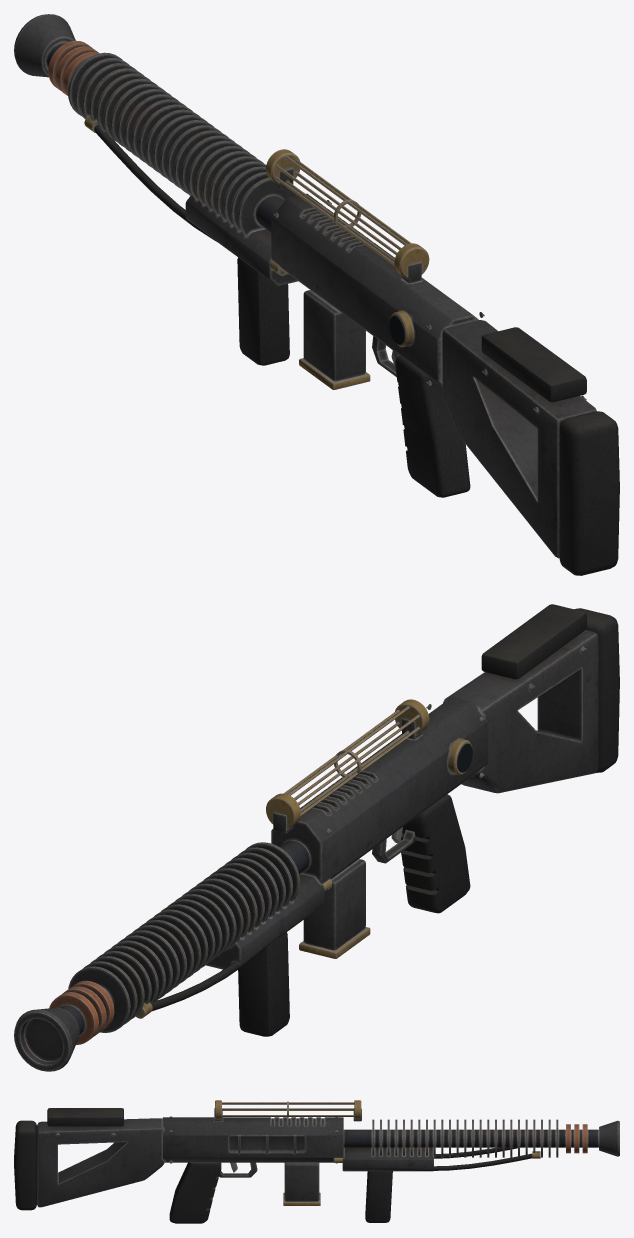
The model's file is candidate_impulse_rifle.glb.
3 renders of one model, top to bottom at view 1: azimuth 30°, elevation 25°; view 2: azimuth 150°, elevation 25°; view 3: azimuth 270°, elevation 25°, orthographic. The views are drawn at different scales.
Parts seen in each view (by area): view 1: candidate_impulse_rifle; view 2: candidate_impulse_rifle; view 3: candidate_impulse_rifle.
Boxes of the visible parts, <box> form: candidate_impulse_rifle: <box>14,14,619,575</box>; candidate_impulse_rifle: <box>14,604,619,1071</box>; candidate_impulse_rifle: <box>14,1100,619,1223</box>.
Bounding box in the file's own units: 0.0756 × 0.2458 × 1.13.
1 material, 1 textured.
